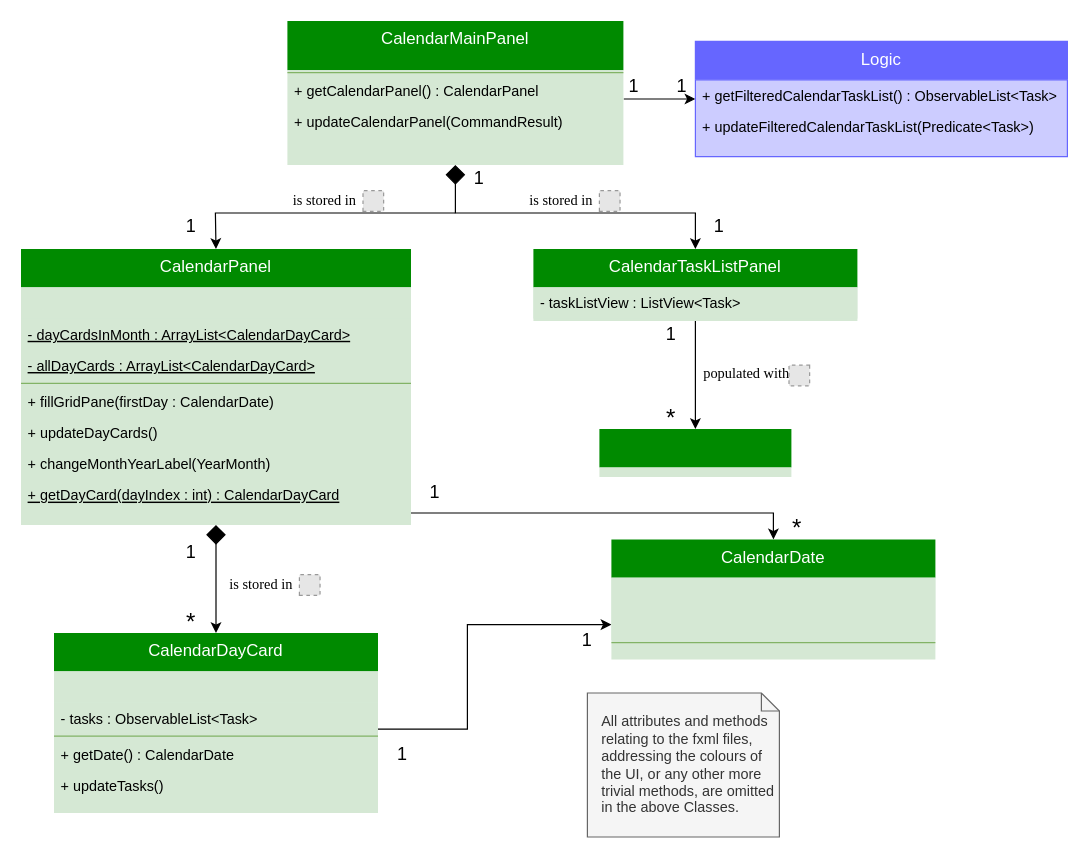
This 1088x858 diagram has some shape labels left out. Grey dashed boxes stand in for pictures. The centre of each missing label's shape, as x and y in pixels:
"- calendarDate : CalendarDate" belongs at pixel 215 686.
"- date : LocalDate" belongs at pixel 773 592.
"- highlightedDay : CalendarDayCard" belongs at pixel 215 302.
"- months : String[]" belongs at pixel 773 624.
"CalendarTaskCard" belongs at pixel 695 452.
